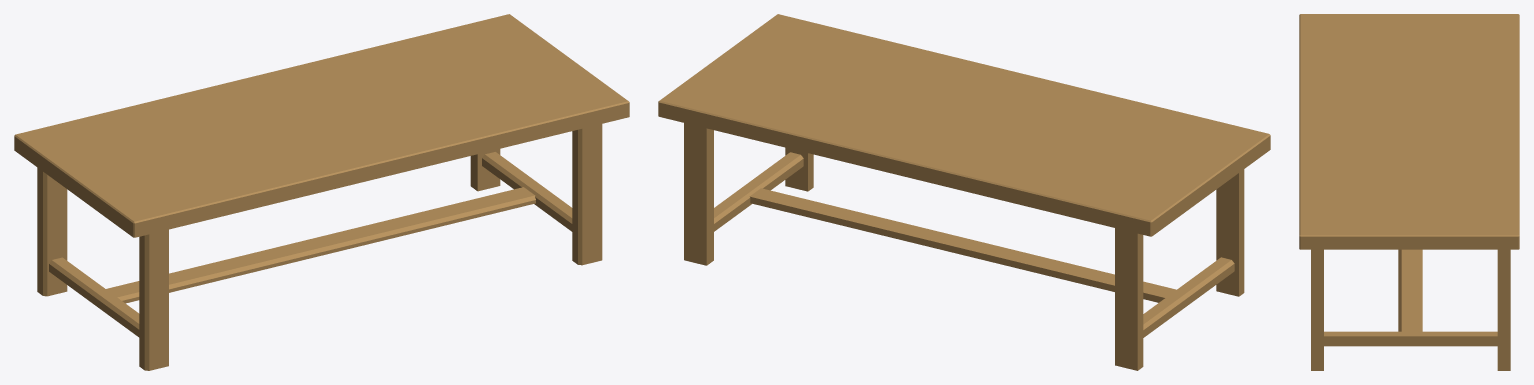
Rendered from propsMaison_table.fbx.
3 views of the same model, side by side, from view 1: azimuth 30°, elevation 25°; view 2: azimuth 150°, elevation 25°; view 3: azimuth 270°, elevation 25° (orthographic). The views are drawn at different scales.
Parts seen in each view (by area): view 1: table; view 2: table; view 3: table.
Boxes of the visible parts, bbox=[...] form: table: bbox=[14, 14, 629, 370]; table: bbox=[658, 14, 1270, 370]; table: bbox=[1299, 14, 1519, 370].
Size of the model in its own units: 675 by 206 by 284.
